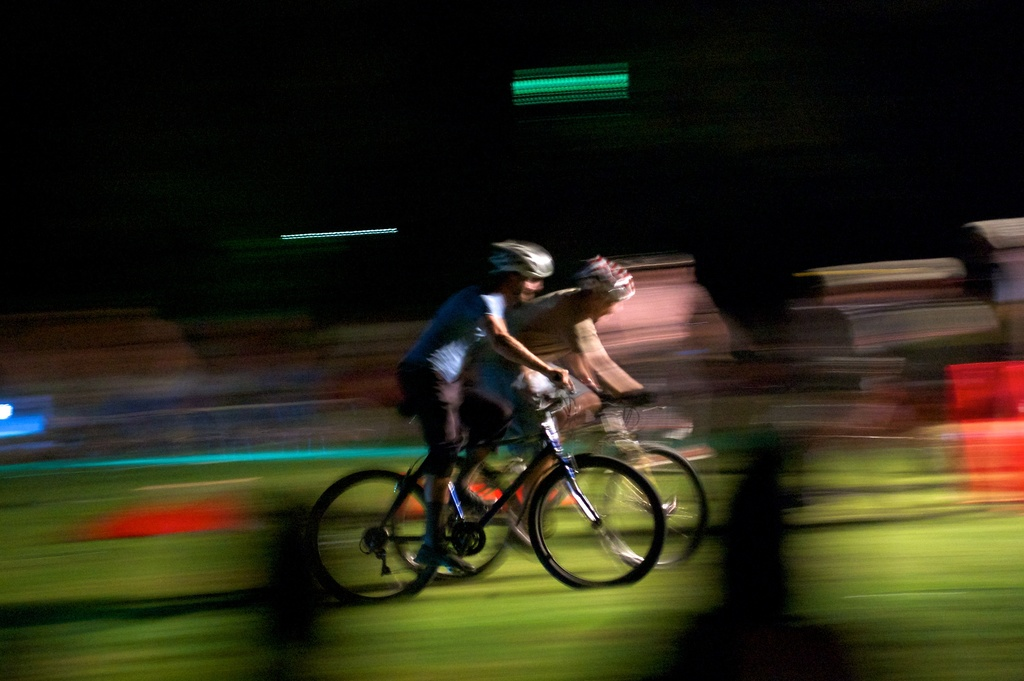Bike_away: (312, 390, 671, 600)
